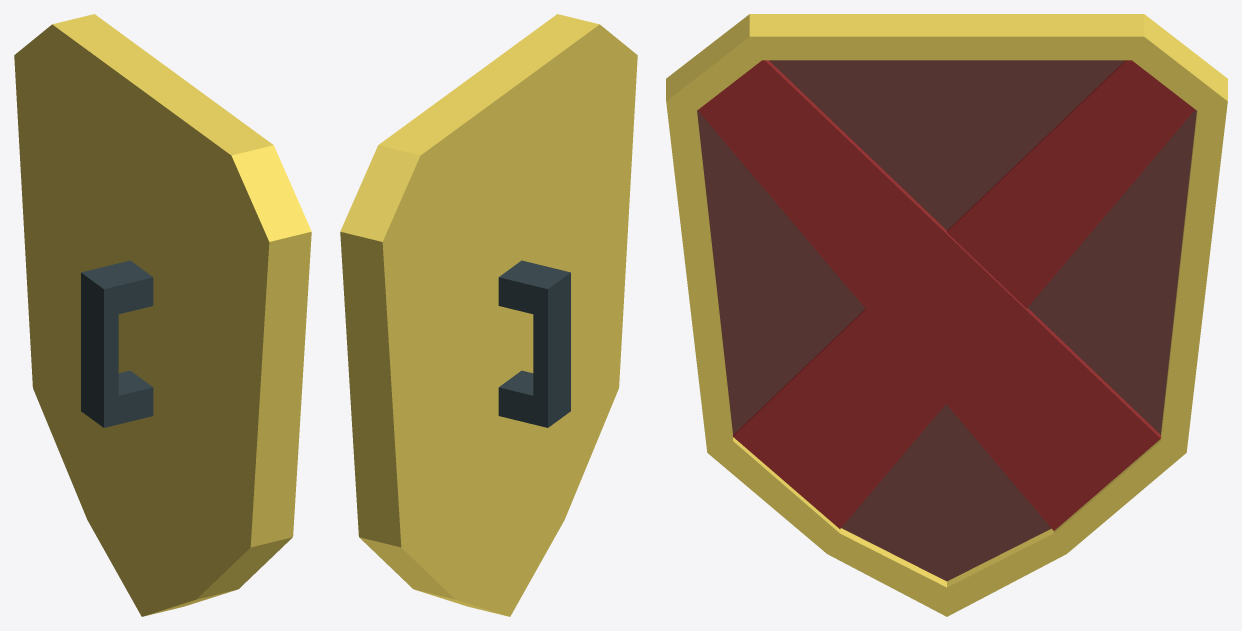
Rendered from AntyMagicShield.fbx.
The picture shows the model from 3 angles, left to right: view 1: azimuth 30°, elevation 25°; view 2: azimuth 150°, elevation 25°; view 3: azimuth 270°, elevation 25°; orthographic projection. The views are drawn at different scales.
Visible parts, largest first — view 1: Cube; view 2: Cube; view 3: Cube.
Part boxes in pixels (x1,y1,x2,y2): Cube: [14, 14, 311, 616]; Cube: [340, 14, 637, 616]; Cube: [666, 14, 1227, 616].
Size of the model in its own units: 48.64 by 267 by 234.
